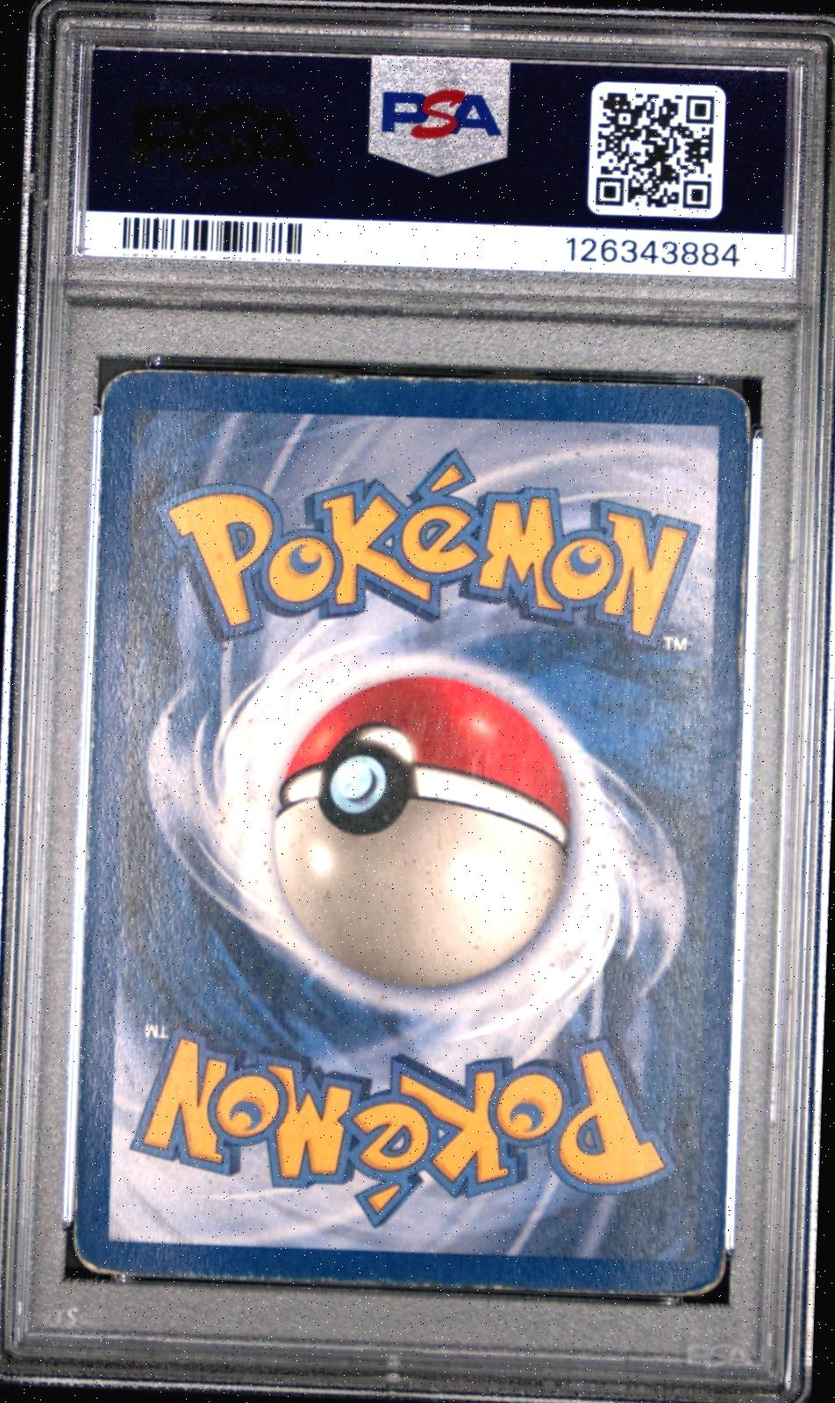card-2UtV: (72, 368, 751, 1297)
